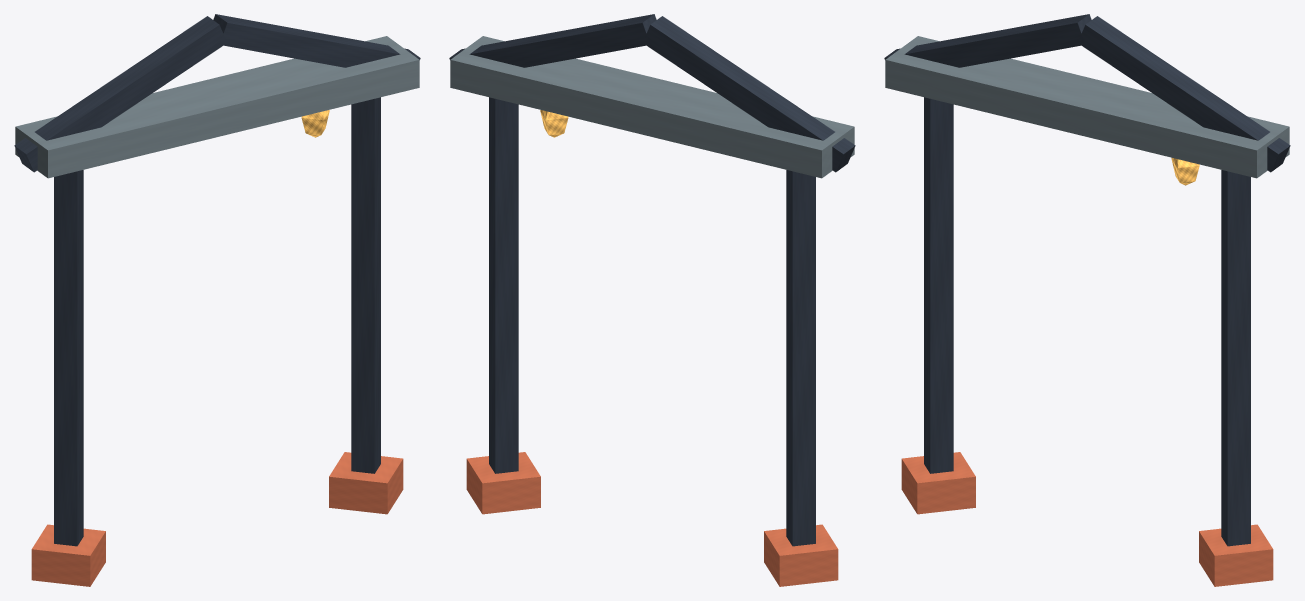
Rendered from atlas100-s021-a09.lod1.glb.
The picture shows the model from 3 angles, left to right: view 1: azimuth 30°, elevation 25°; view 2: azimuth 150°, elevation 25°; view 3: azimuth 330°, elevation 25°; orthographic projection.
Visible parts, largest first — view 1: atlas100-s021-a09:part-004, atlas100-s021-a09:part-002, atlas100-s021-a09:part-000, atlas100-s021-a09:part-005, atlas100-s021-a09:part-006, atlas100-s021-a09:part-003, atlas100-s021-a09:part-001, atlas100-s021-a09:part-008; view 2: atlas100-s021-a09:part-004, atlas100-s021-a09:part-002, atlas100-s021-a09:part-000, atlas100-s021-a09:part-005, atlas100-s021-a09:part-006, atlas100-s021-a09:part-003, atlas100-s021-a09:part-001, atlas100-s021-a09:part-008; view 3: atlas100-s021-a09:part-004, atlas100-s021-a09:part-000, atlas100-s021-a09:part-002, atlas100-s021-a09:part-006, atlas100-s021-a09:part-005, atlas100-s021-a09:part-001, atlas100-s021-a09:part-003, atlas100-s021-a09:part-008.
Boxes of the visible parts, x1=… form: atlas100-s021-a09:part-004: x1=15, y1=36, x2=419, y2=178; atlas100-s021-a09:part-002: x1=351, y1=97, x2=380, y2=473; atlas100-s021-a09:part-000: x1=54, y1=170, x2=83, y2=546; atlas100-s021-a09:part-005: x1=14, y1=16, x2=226, y2=172; atlas100-s021-a09:part-006: x1=213, y1=14, x2=420, y2=67; atlas100-s021-a09:part-003: x1=329, y1=452, x2=403, y2=514; atlas100-s021-a09:part-001: x1=31, y1=524, x2=105, y2=586; atlas100-s021-a09:part-008: x1=301, y1=110, x2=329, y2=137; atlas100-s021-a09:part-004: x1=450, y1=36, x2=854, y2=178; atlas100-s021-a09:part-002: x1=489, y1=97, x2=518, y2=473; atlas100-s021-a09:part-000: x1=786, y1=170, x2=815, y2=546; atlas100-s021-a09:part-005: x1=643, y1=16, x2=855, y2=172; atlas100-s021-a09:part-006: x1=449, y1=14, x2=656, y2=67; atlas100-s021-a09:part-003: x1=466, y1=452, x2=540, y2=514; atlas100-s021-a09:part-001: x1=764, y1=524, x2=838, y2=586; atlas100-s021-a09:part-008: x1=540, y1=110, x2=568, y2=137; atlas100-s021-a09:part-004: x1=885, y1=36, x2=1289, y2=178; atlas100-s021-a09:part-000: x1=924, y1=97, x2=953, y2=473; atlas100-s021-a09:part-002: x1=1221, y1=170, x2=1250, y2=546; atlas100-s021-a09:part-006: x1=1081, y1=16, x2=1290, y2=172; atlas100-s021-a09:part-005: x1=884, y1=14, x2=1091, y2=67; atlas100-s021-a09:part-001: x1=901, y1=452, x2=975, y2=514; atlas100-s021-a09:part-003: x1=1199, y1=524, x2=1273, y2=586; atlas100-s021-a09:part-008: x1=1171, y1=158, x2=1199, y2=185.
Bounding box in the file's own units: 2.65 × 3.31 × 0.5.
Materials: 4 (4 with a texture image).
